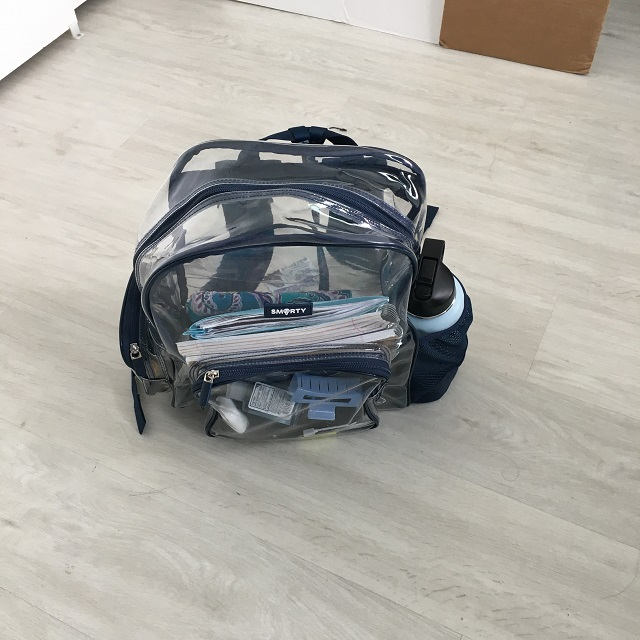clearbackpack: (118, 124, 472, 438)
